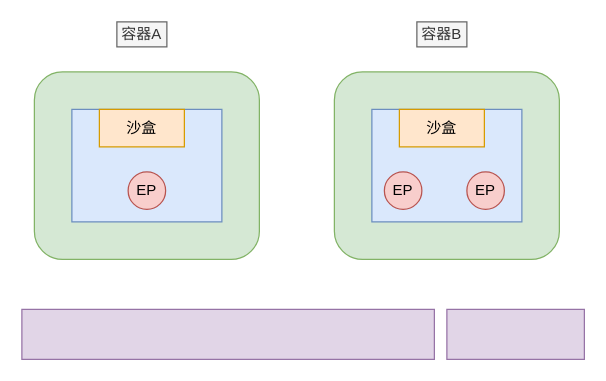
Some shapes in this 606 by 381 pixel diagram are drawn without their labels. The shapes that lost their labels are listed below. From the top down, each one's centre as x and y in pixels, then its label:
At pixel 227 333: "网络A".
At pixel 515 333: "网络B".
